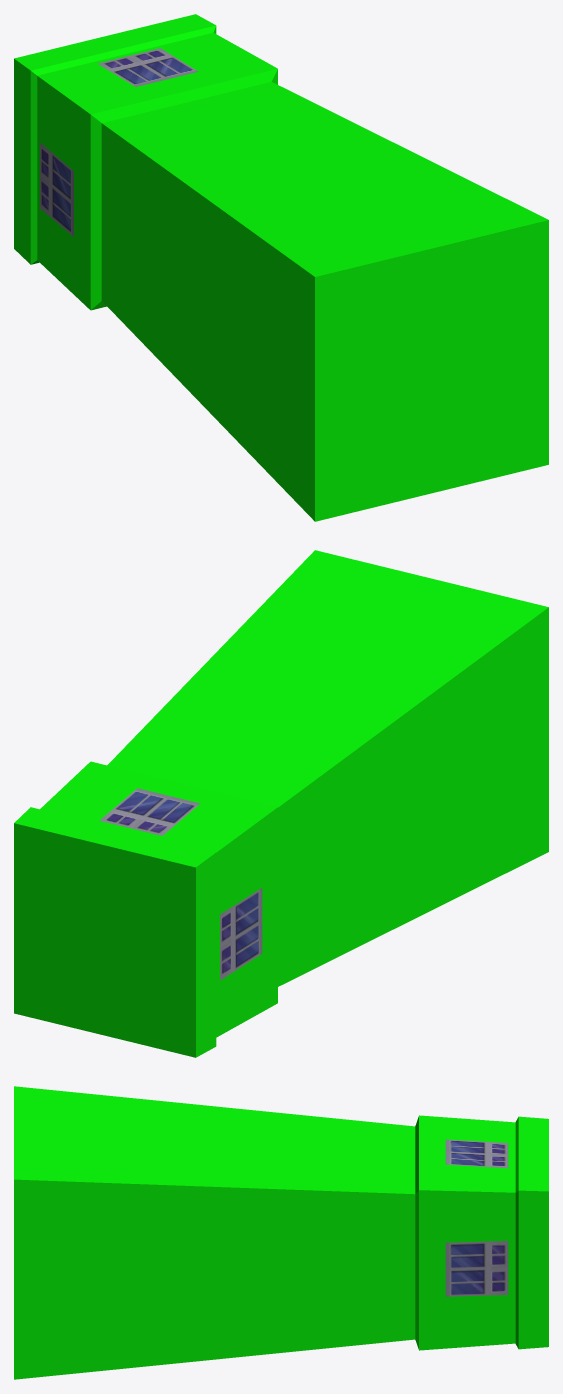
The model's file is building_5s_02.FBX.
3 renders of one model, top to bottom at view 1: azimuth 30°, elevation 25°; view 2: azimuth 150°, elevation 25°; view 3: azimuth 270°, elevation 25°, orthographic. The views are drawn at different scales.
Parts seen in each view (by area): view 1: building_5s_02; view 2: building_5s_02; view 3: building_5s_02.
Boxes of the visible parts, x1,y1,x2,y2 form: building_5s_02: (14, 14, 548, 521); building_5s_02: (14, 550, 548, 1057); building_5s_02: (14, 1086, 548, 1379).
Size of the model in its own units: 8.81 by 8.81 by 21.34.
